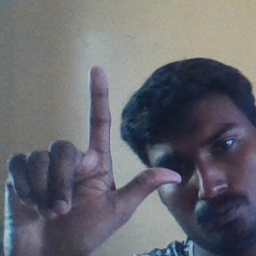L: (4, 64, 185, 256)
